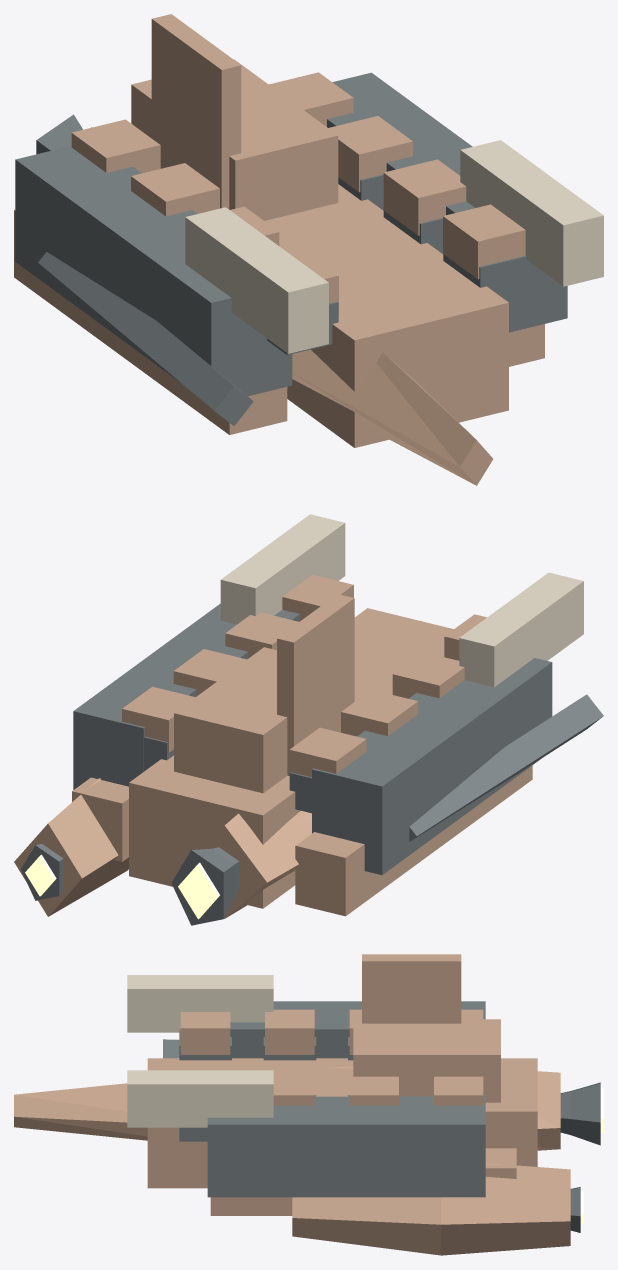
The picture shows the model from 3 angles, top to bottom: view 1: azimuth 30°, elevation 25°; view 2: azimuth 150°, elevation 25°; view 3: azimuth 270°, elevation 25°; orthographic projection. The views are drawn at different scales.
Size of the model in its own units: 12.52 by 9.62 by 22.38.
